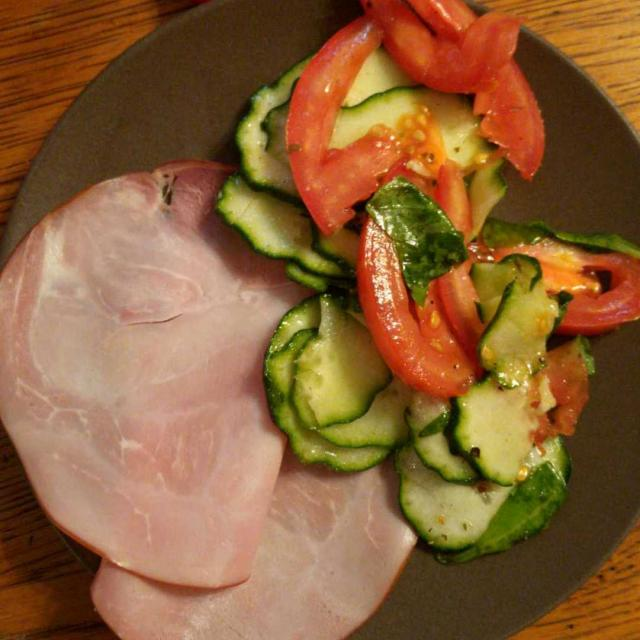ham-cooked: (14, 166, 431, 624)
tomato-raw: (279, 17, 626, 424)
